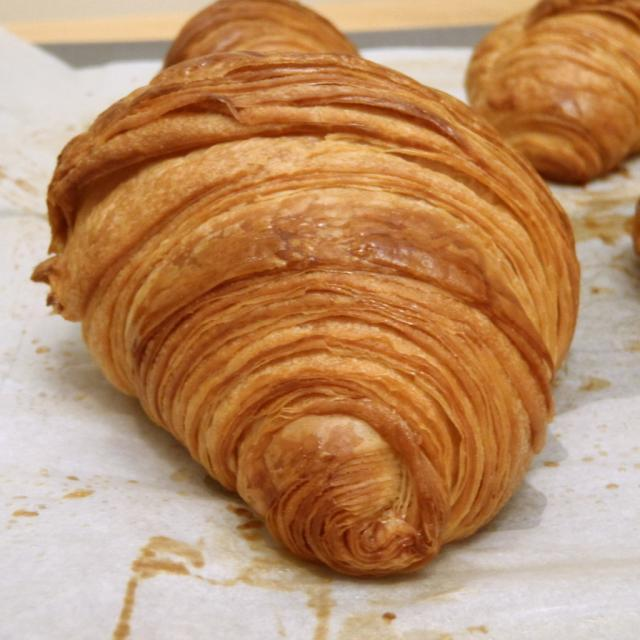Croissant: (28, 0, 580, 578), (469, 1, 640, 187)
